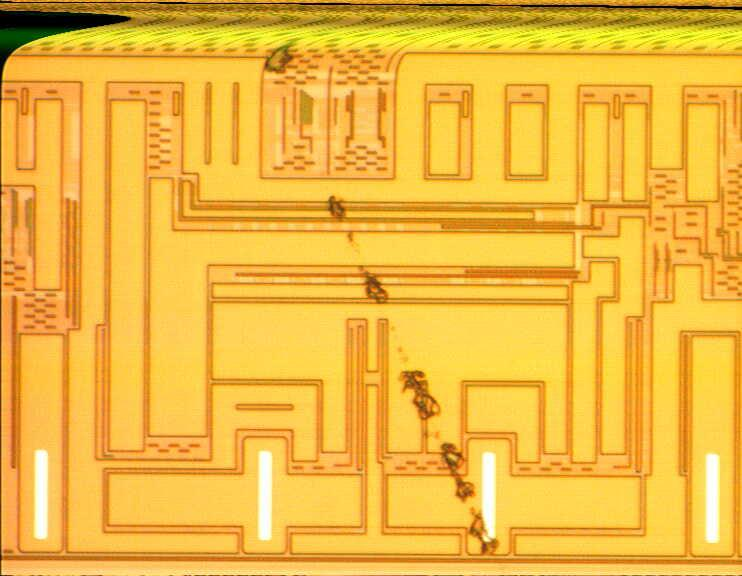SCRATCH: (252, 40, 521, 574)
